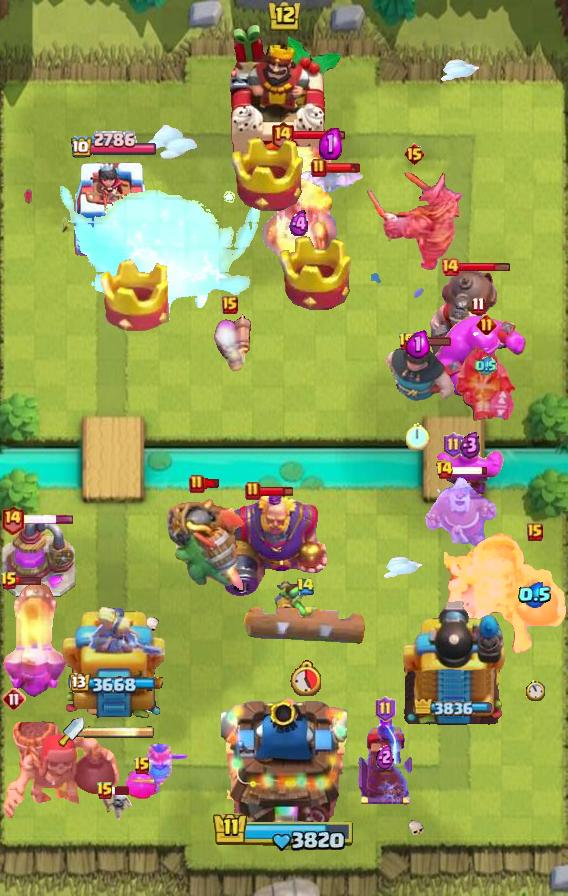bar: (60, 607, 168, 731)
barbarian: (294, 167, 366, 195)
clock: (212, 811, 356, 853)
clone: (428, 314, 528, 398)
electro-dragon: (260, 139, 338, 267)
electro-giant: (444, 533, 568, 657), (0, 706, 122, 822)
electro-spirit: (518, 582, 552, 608), (319, 128, 342, 160), (406, 330, 430, 359), (289, 210, 311, 238), (460, 431, 481, 459), (376, 742, 394, 770), (475, 356, 497, 376)
elixir: (290, 660, 321, 696), (406, 422, 430, 450), (526, 679, 546, 700)
elixir-collector: (421, 474, 499, 548)
emote: (21, 514, 75, 525), (293, 131, 346, 142), (458, 262, 511, 273), (258, 485, 293, 498), (325, 162, 361, 174), (416, 336, 453, 347), (452, 465, 489, 476), (7, 574, 42, 585), (111, 784, 131, 795), (203, 479, 220, 490)
furnace: (0, 579, 68, 699)
giant-snowball: (273, 579, 321, 621)
golemite: (364, 166, 464, 274)
heal-spirit: (102, 791, 134, 823)
hog-rider: (142, 742, 190, 796)
ice-spirit-evolution-symbol: (355, 710, 415, 806)
inferno-dragon: (453, 323, 519, 425)
king-tower: (224, 23, 344, 181), (221, 690, 347, 826)
king-tower-bar: (84, 725, 154, 739)
lightning: (205, 492, 331, 598)
mega-knight: (60, 173, 282, 347)
miner: (126, 769, 158, 799)
minion: (241, 601, 369, 647)
night-witch: (166, 487, 250, 601)
pekka: (0, 517, 78, 599)
queen-tower: (69, 158, 159, 256)
royal-hog: (379, 342, 457, 406)
selected: (70, 131, 158, 160), (70, 673, 158, 695), (413, 700, 493, 717)
text: (270, 121, 295, 152), (0, 504, 24, 535), (2, 687, 26, 711), (402, 142, 425, 166), (444, 432, 465, 458), (375, 696, 396, 722), (476, 313, 497, 335), (440, 257, 460, 277), (434, 460, 454, 480), (398, 332, 416, 352), (0, 571, 18, 591), (133, 756, 151, 776), (96, 781, 114, 801), (296, 577, 315, 595), (311, 158, 327, 178), (189, 474, 205, 494), (245, 481, 261, 501), (222, 296, 238, 314), (527, 523, 543, 541), (470, 297, 485, 315)
tombstone: (208, 312, 252, 374)
tornado: (436, 444, 504, 496)
tower-bar: (397, 595, 509, 731)
wizard: (429, 267, 499, 377)
